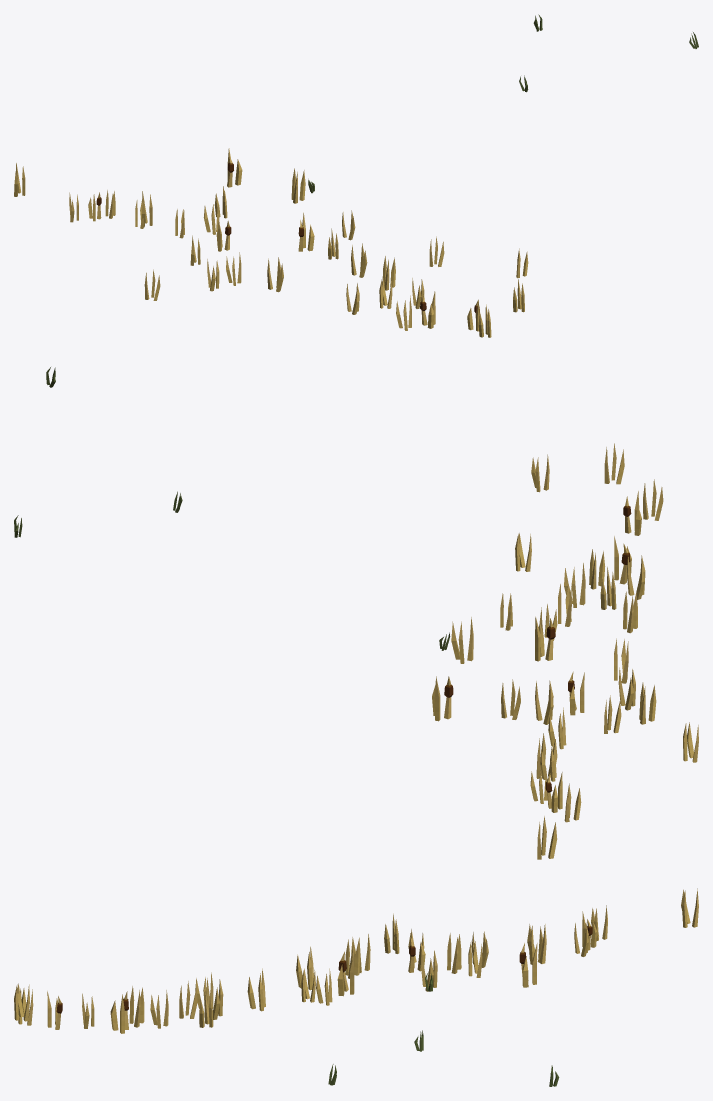
File: Grasses6.gltf
3 renders of one model, top to bottom at view 1: azimuth 30°, elevation 25°; view 2: azimuth 150°, elevation 25°; view 3: azimuth 270°, elevation 25°, orthographic. The views are drawn at different scales.
Parts seen in each view (by area): view 1: no part large enough to name; view 2: no part large enough to name; view 3: Reed_with - copy.071, Reed_with - copy.007, Reed_with - copy.058, Reed_normal - copy.056, Reed_normal - copy.233, Reed_normal - copy.216, Reed_normal - copy.166, Reed_normal - copy.324, Reed_normal - copy.304, Reed_normal - copy.224, Reed_normal - copy.114, Reed_normal - copy.191 (+10 smaller).
Part boxes in pixels (x1,y1,x2,y2): Reed_with - copy.071: [337, 951, 354, 996]; Reed_with - copy.007: [110, 991, 128, 1033]; Reed_with - copy.058: [519, 943, 537, 987]; Reed_normal - copy.056: [129, 986, 144, 1027]; Reed_normal - copy.233: [447, 933, 461, 973]; Reed_normal - copy.216: [247, 968, 265, 1011]; Reed_normal - copy.166: [199, 989, 213, 1027]; Reed_normal - copy.324: [14, 983, 29, 1021]; Reed_normal - copy.304: [421, 949, 437, 991]; Reed_normal - copy.224: [527, 924, 546, 964]; Reed_normal - copy.114: [296, 946, 313, 990]; Reed_normal - copy.191: [681, 888, 698, 927].
Size of the model in its own units: 18.65 by 5.27 by 17.
3 materials, 3 textured.
